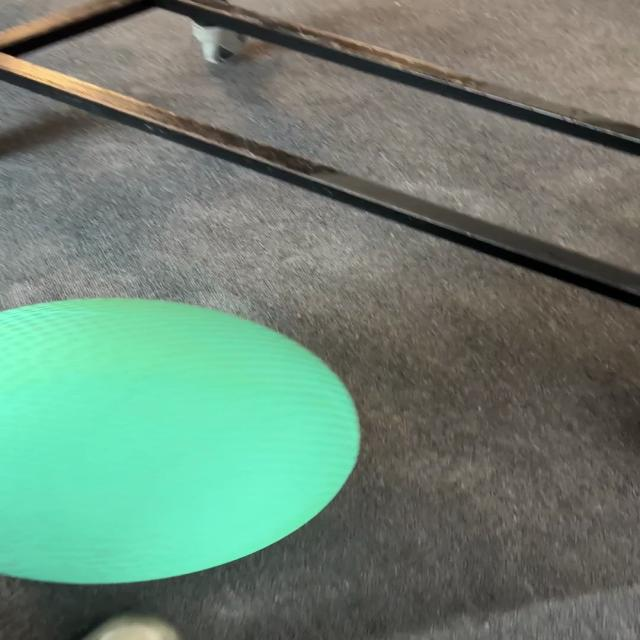Algae: (1, 296, 362, 585)
